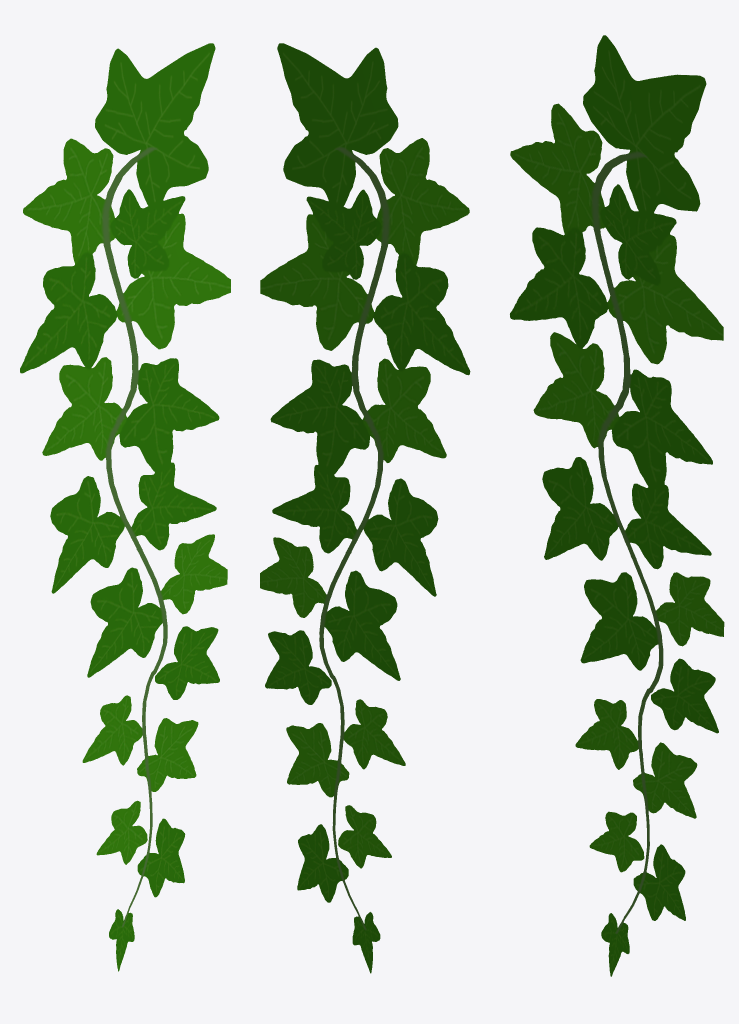
File: PT_Ivy_01.fbx
The picture shows the model from 3 angles, left to right: view 1: azimuth 30°, elevation 25°; view 2: azimuth 150°, elevation 25°; view 3: azimuth 330°, elevation 25°; orthographic projection.
Parts seen in each view (by area): view 1: PT_Ivy_01; view 2: PT_Ivy_01; view 3: PT_Ivy_01.
Boxes of the visible parts, left/top/right/bottom form: PT_Ivy_01: left=20, top=43, right=230, bottom=971; PT_Ivy_01: left=260, top=43, right=470, bottom=973; PT_Ivy_01: left=510, top=35, right=724, bottom=976.
Bounding box in the file's own units: 26.48 × 113 × 1.91.
